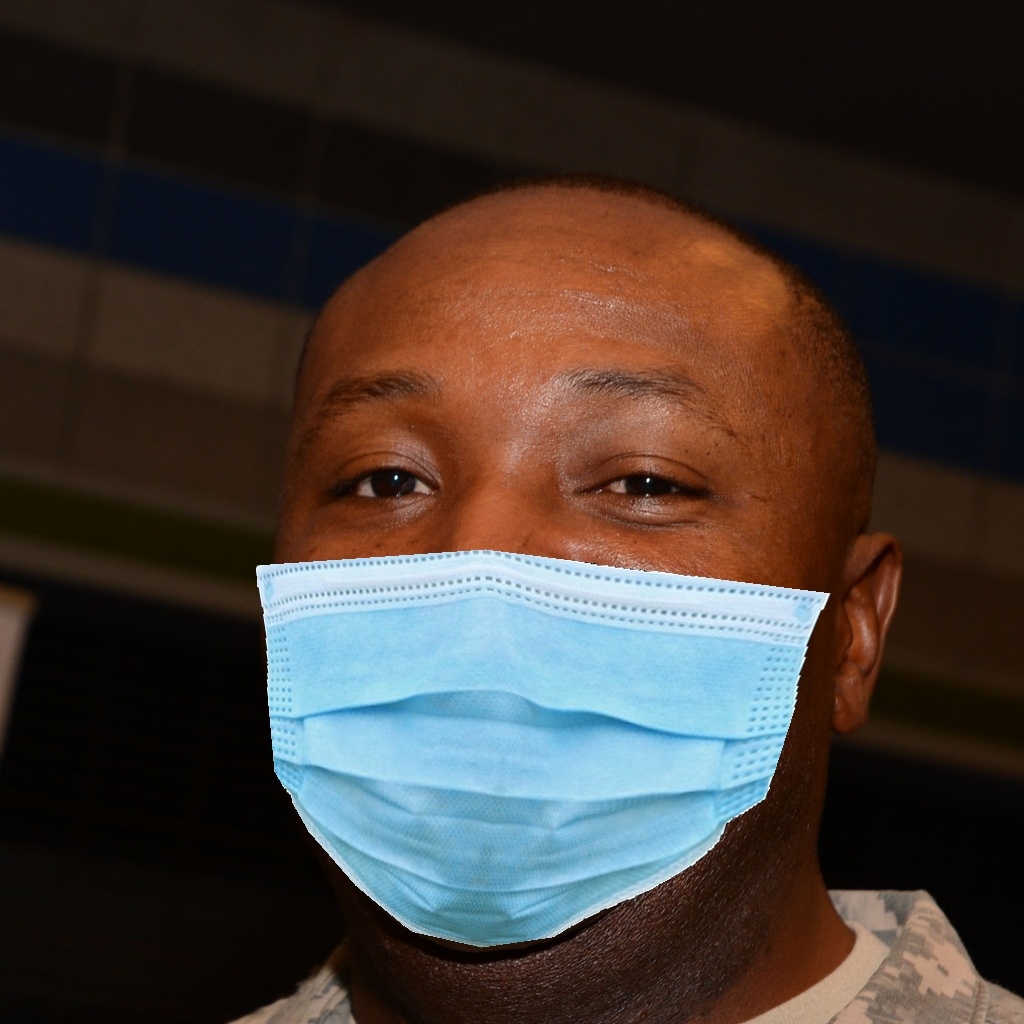Mask: (250, 343, 834, 956)
